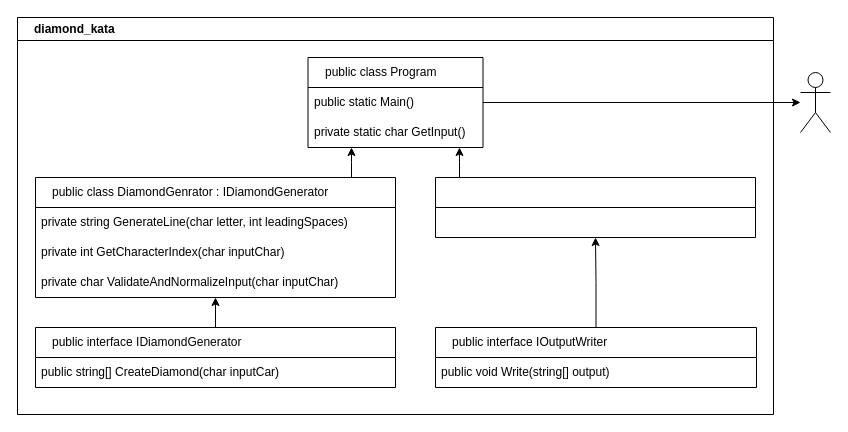
The diagram is 848 pixels wide and 432 high, and some of its shapes have lost their labels. Each missing label, with the centre of its shape:
"Actor" belongs at pixel 815 102.
"public class ConsoleWriter : IOutputWriter" belongs at pixel 595 207.
